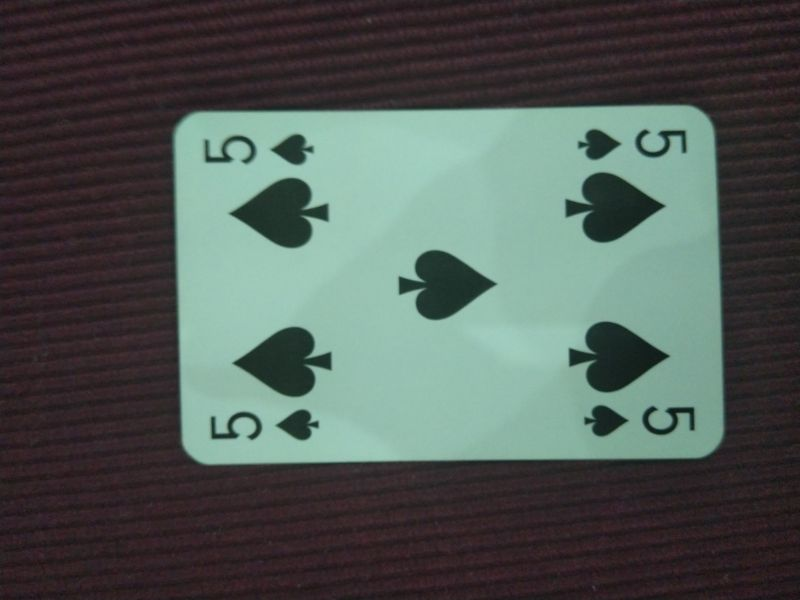5s: (570, 116, 693, 164), (580, 398, 705, 444), (204, 405, 330, 449), (199, 131, 320, 170)
